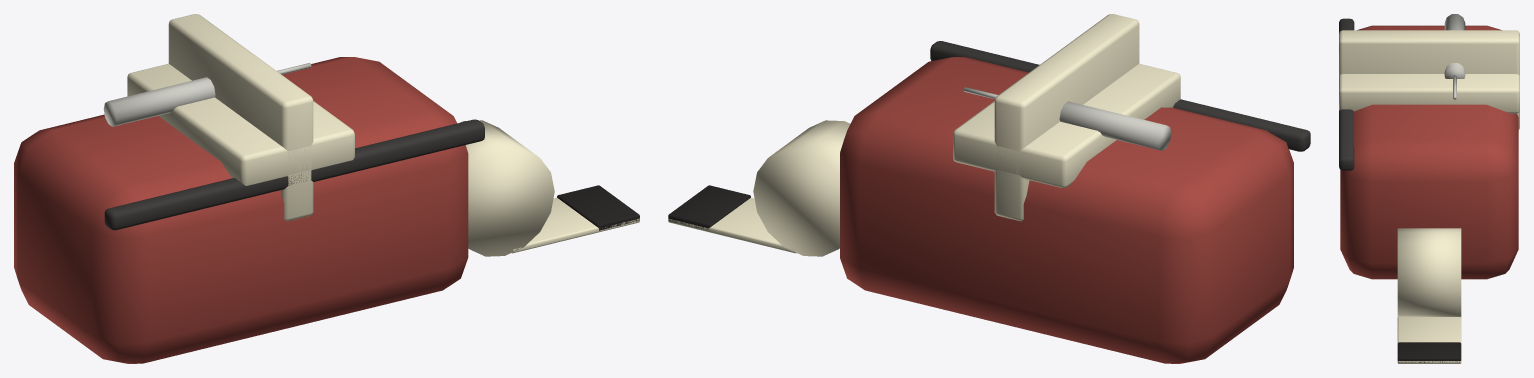
The model's file is medbag.glb.
3 renders of one model, left to right at view 1: azimuth 30°, elevation 25°; view 2: azimuth 150°, elevation 25°; view 3: azimuth 270°, elevation 25°, orthographic. The views are drawn at different scales.
Parts seen in each view (by area): view 1: bag, crossv, crossh, roll, zip, barrel, stain, tail; view 2: bag, crossv, crossh, roll, zip, barrel, stain, tail; view 3: bag, crossv, roll, crossh, tail, stain, zip, barrel.
Part boxes in pixels (x1,y1,x2,y2): bag: (14, 57, 468, 363); crossv: (168, 14, 313, 221); crossh: (127, 63, 354, 185); roll: (460, 120, 554, 256); zip: (104, 119, 484, 230); barrel: (103, 77, 215, 126); stain: (557, 185, 639, 230); tail: (512, 197, 639, 253); bag: (840, 57, 1293, 363); crossv: (994, 14, 1139, 221); crossh: (953, 63, 1180, 187); roll: (753, 120, 850, 256); zip: (930, 41, 1310, 151); barrel: (1059, 101, 1171, 150); stain: (668, 185, 750, 229); tail: (668, 197, 795, 253); bag: (1340, 25, 1518, 279); crossv: (1339, 30, 1519, 129); roll: (1397, 228, 1461, 316); crossh: (1339, 74, 1519, 113); tail: (1397, 317, 1461, 363); stain: (1397, 342, 1461, 362); zip: (1339, 18, 1354, 170); barrel: (1444, 14, 1465, 78).
Bounding box in the file's own units: 0.396 × 0.162 × 0.142.
